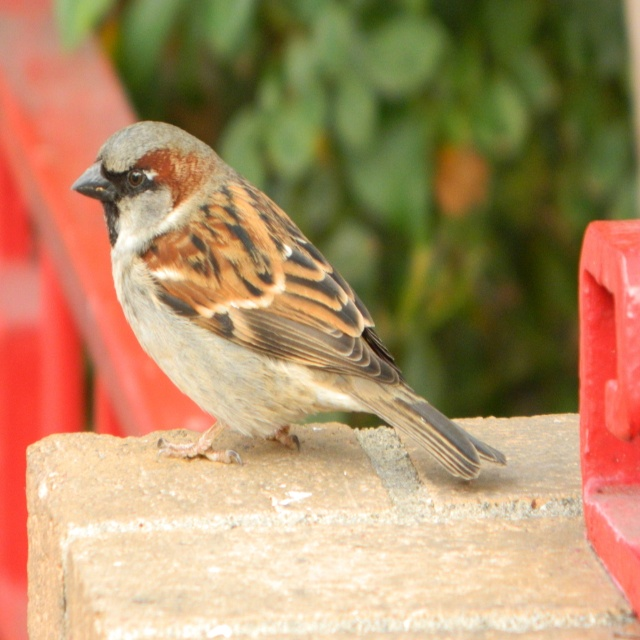Sparrow: (70, 120, 510, 484)
